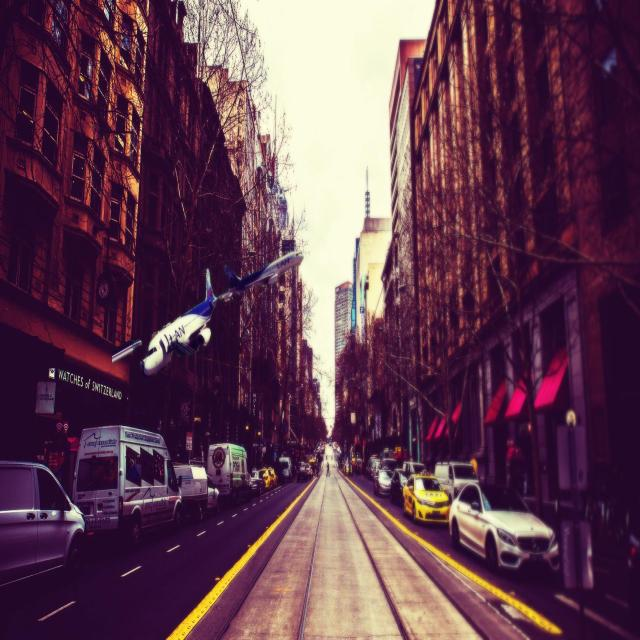airplane: (111, 249, 304, 378)
